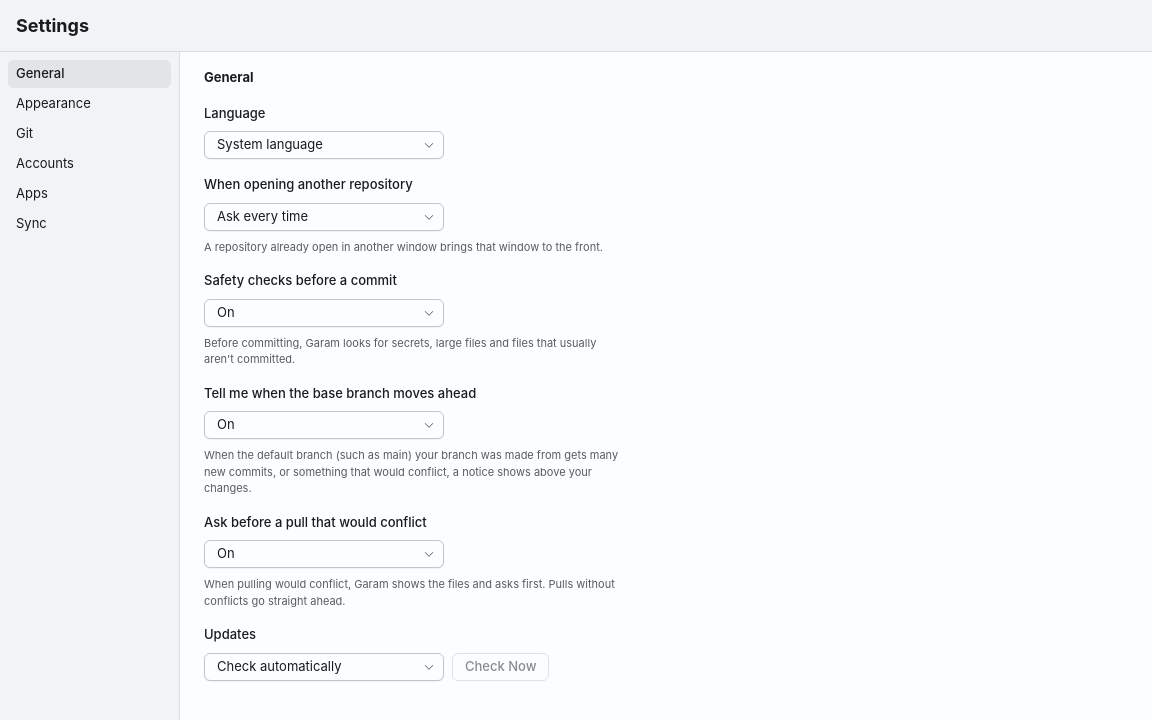
Test: settings › uses the system accent color, made readable
Click the tab "Appearance" at [90, 104], box x1=8 y1=90 x2=171 y2=118
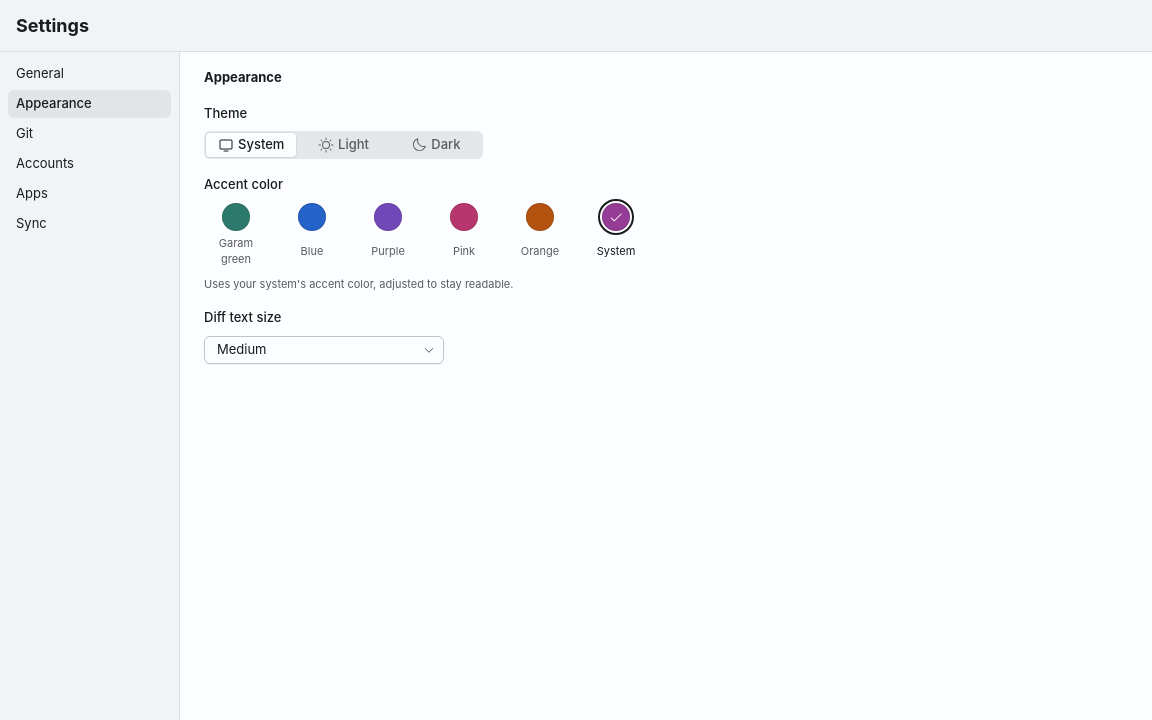
Expected: the text "Uses your system's accent color, adjusted to stay readable." is shown, x1=204 y1=276 x2=514 y2=292
